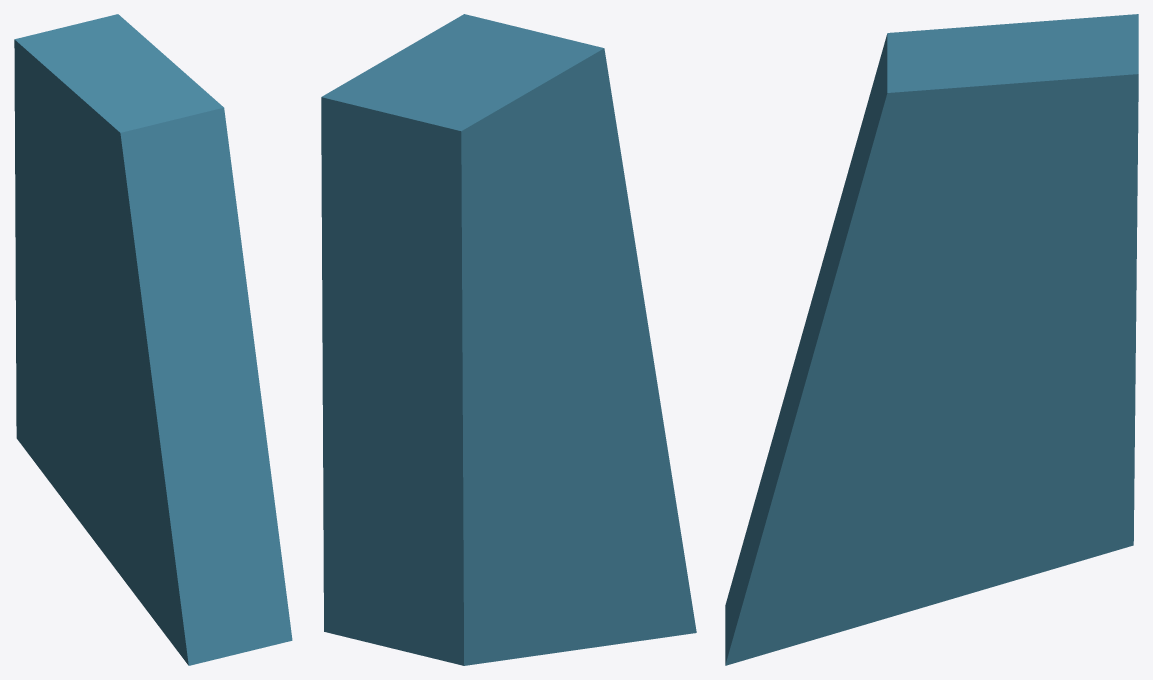
Rendered from NexusC_Trigger_18.fbx.
The picture shows the model from 3 angles, left to right: view 1: azimuth 30°, elevation 25°; view 2: azimuth 150°, elevation 25°; view 3: azimuth 270°, elevation 25°; orthographic projection. The views are drawn at different scales.
Visible parts, largest first — view 1: polySurface26; view 2: polySurface26; view 3: polySurface26.
Part boxes in pixels (x1=…): polySurface26: x1=14, y1=14, x2=292, y2=665; polySurface26: x1=321, y1=14, x2=696, y2=665; polySurface26: x1=725, y1=14, x2=1138, y2=665.
Bounding box in the file's own units: 9.22 × 42.37 × 26.83.
